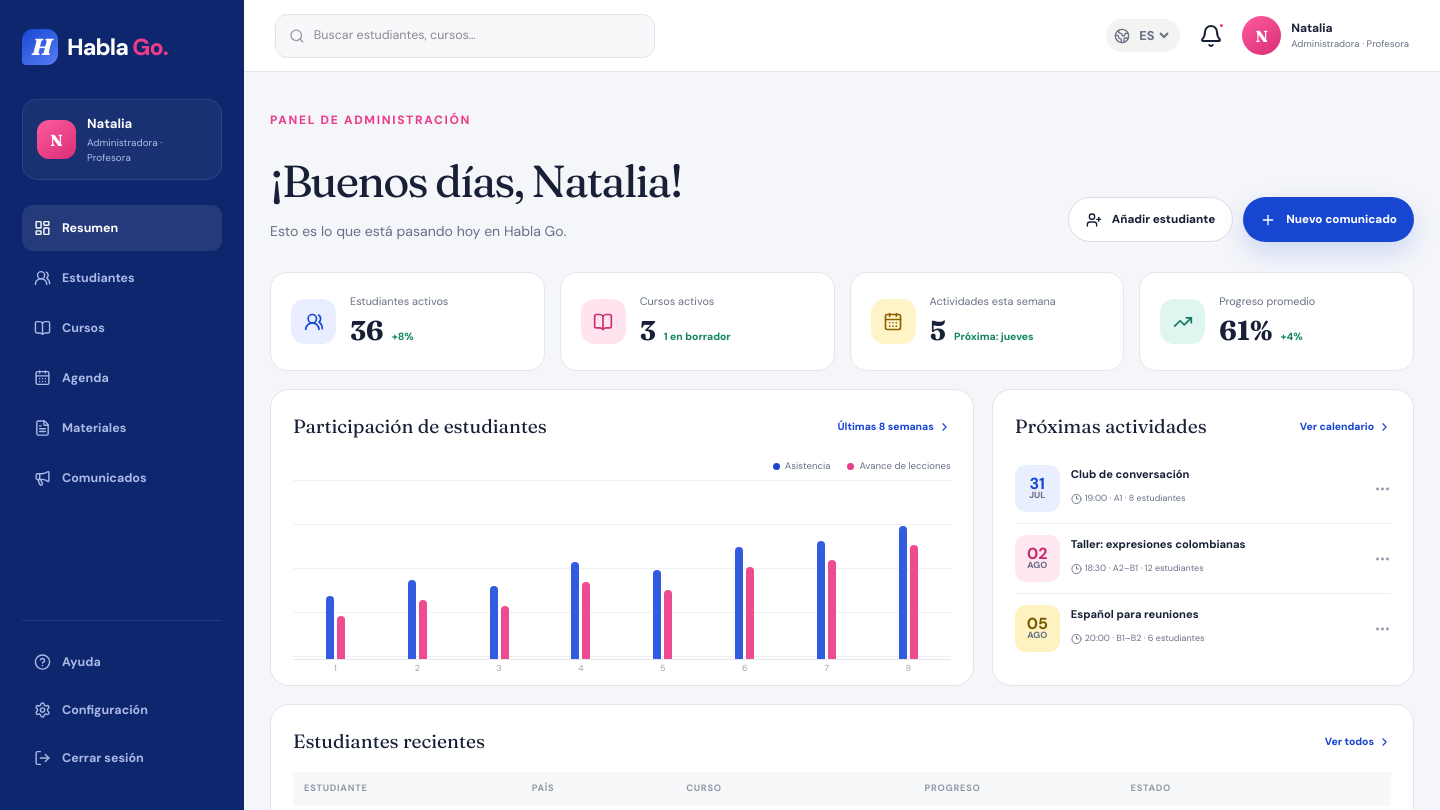
Scenario: language switching › opens Natalia's announcement composer in the admin prototype
Expected: the heading "¡Buenos días, Natalia!" is shown, x1=270 y1=147 x2=682 y2=214
Click the button "Nuevo comunicado": (1329, 220) x1=1243 y1=197 x2=1414 y2=242
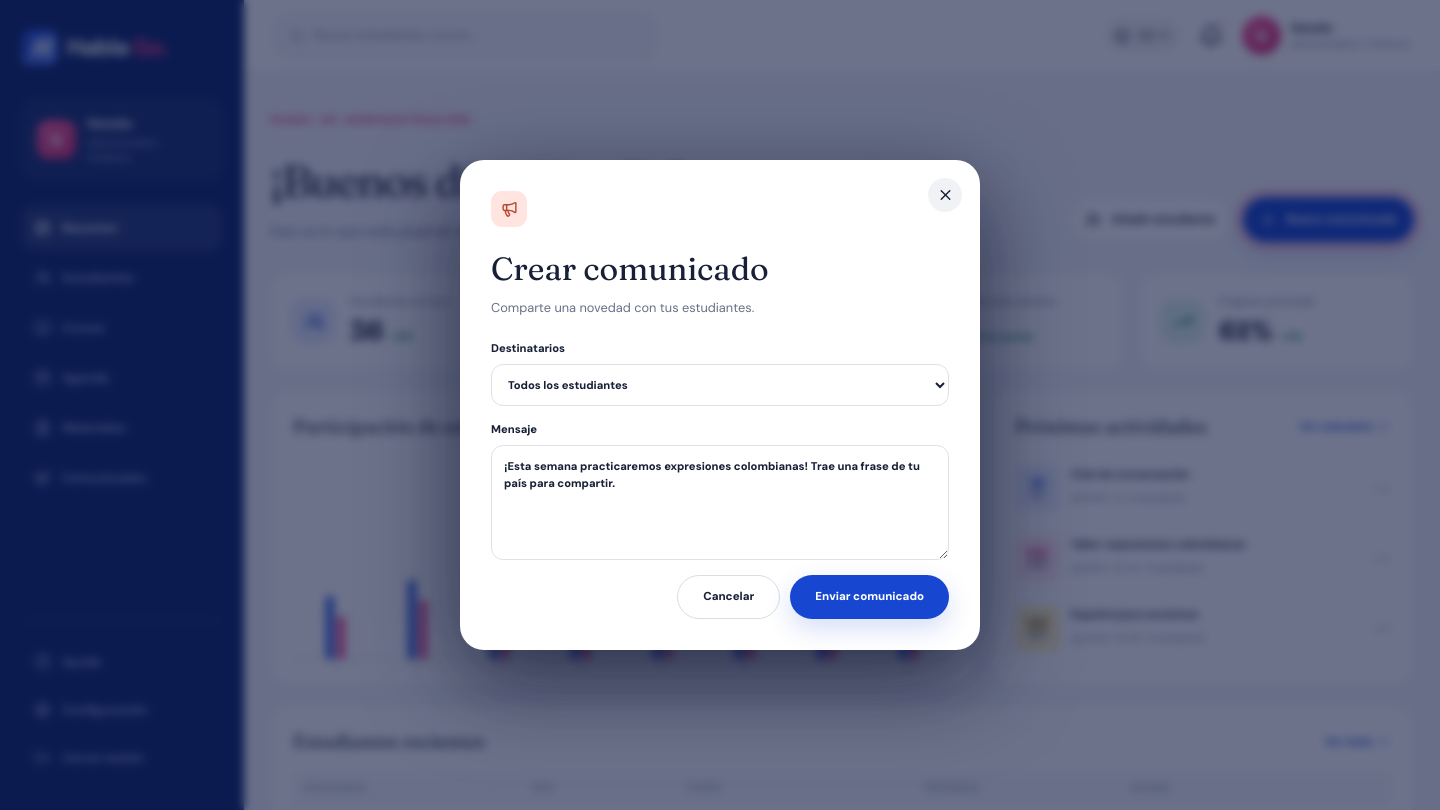
Expected: the dialog "Crear comunicado" is shown, x1=460 y1=160 x2=980 y2=650
